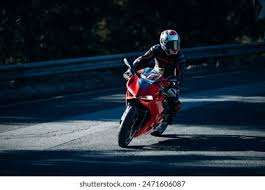motorcycle: (116, 57, 180, 149)
